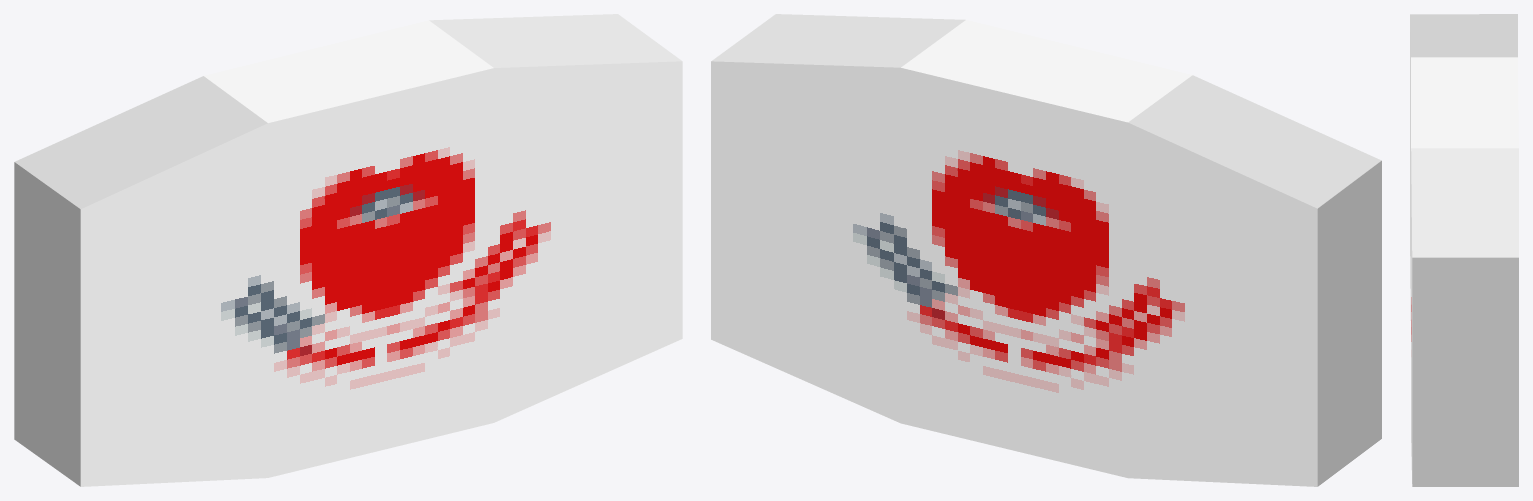
Rendered from special-175.glb.
3 renders of one model, left to right at view 1: azimuth 30°, elevation 25°; view 2: azimuth 150°, elevation 25°; view 3: azimuth 270°, elevation 25°, orthographic. The views are drawn at different scales.
Visible parts, largest first — view 1: special-175; view 2: special-175; view 3: special-175.
Part boxes in pixels (left/top/right/bottom): special-175: left=14, top=14, right=682, bottom=486; special-175: left=711, top=14, right=1381, bottom=486; special-175: left=1410, top=14, right=1518, bottom=486.
Bounding box in the file's own units: 0.5117 × 0.2871 × 0.0967.
Materials: 9 (1 with a texture image).
